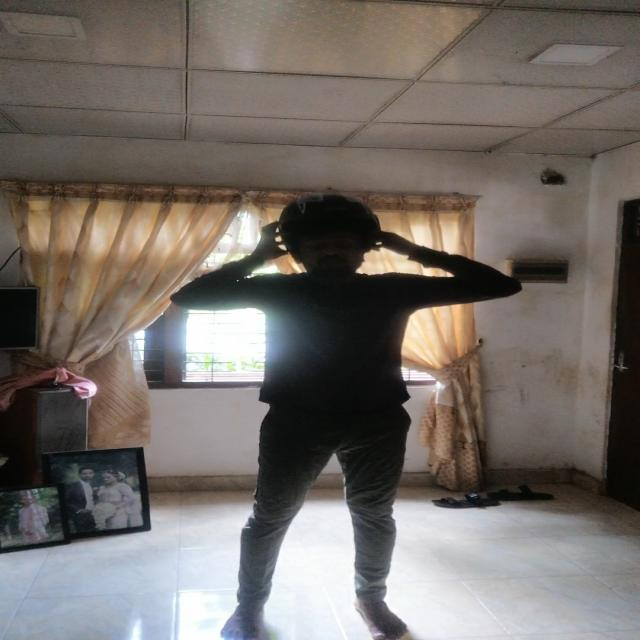Helmet_Wearer: (243, 184, 391, 288)
Person: (173, 204, 492, 640)
